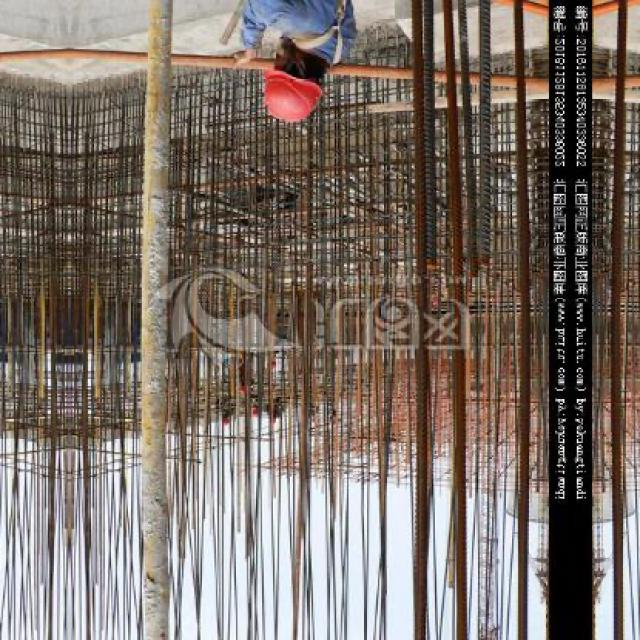con casco: (230, 45, 352, 159)
